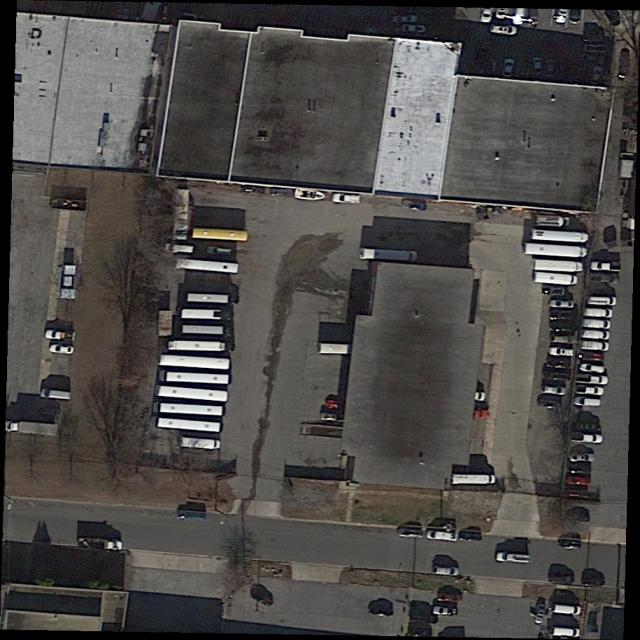large-vehicle: (157, 386, 229, 402), (159, 355, 229, 370), (176, 259, 240, 275), (8, 419, 59, 438), (525, 243, 588, 258), (157, 418, 222, 432), (159, 372, 229, 385), (155, 403, 223, 416), (361, 248, 419, 262), (531, 230, 590, 243), (193, 229, 248, 242), (186, 292, 240, 305), (535, 260, 583, 273), (169, 341, 225, 351), (180, 436, 220, 450), (534, 273, 577, 285), (453, 474, 495, 485), (181, 310, 222, 319), (183, 326, 223, 335)
ship: (290, 188, 327, 202)
small-vehicle: (494, 550, 532, 565), (42, 328, 77, 343), (533, 215, 571, 228), (39, 387, 74, 401), (425, 529, 460, 543), (569, 432, 604, 446), (176, 509, 208, 523), (551, 625, 581, 639), (408, 612, 440, 625), (580, 340, 611, 353), (512, 1, 528, 26), (204, 245, 234, 258), (576, 384, 606, 397), (532, 601, 548, 625), (47, 343, 76, 356), (578, 362, 607, 375), (552, 604, 583, 616), (367, 606, 395, 619), (574, 420, 602, 433), (576, 374, 609, 385), (164, 242, 194, 254), (490, 24, 520, 36), (542, 371, 572, 383), (393, 527, 425, 538), (590, 260, 622, 271), (586, 296, 618, 307), (580, 329, 612, 340), (401, 199, 428, 212), (540, 385, 569, 397), (573, 396, 602, 408), (331, 194, 362, 205), (432, 605, 460, 617), (564, 475, 592, 487), (544, 358, 572, 370), (579, 350, 607, 362), (584, 307, 614, 318), (565, 463, 592, 475), (615, 61, 631, 81), (581, 319, 612, 329), (541, 286, 571, 296), (590, 274, 620, 284), (590, 66, 605, 86), (437, 593, 464, 604), (400, 24, 427, 35), (569, 453, 596, 464), (550, 333, 577, 344), (582, 575, 606, 587), (553, 9, 571, 25), (565, 489, 591, 500), (501, 58, 516, 77), (548, 575, 576, 585), (550, 311, 578, 321), (550, 323, 578, 333), (557, 540, 582, 551), (543, 59, 557, 78), (320, 413, 346, 423), (102, 538, 122, 551), (548, 347, 574, 357), (467, 409, 490, 420), (432, 566, 460, 575), (548, 300, 576, 309), (392, 15, 419, 24), (324, 400, 347, 410), (585, 44, 608, 54), (460, 532, 482, 542), (467, 391, 486, 402), (532, 58, 543, 76), (480, 8, 493, 23), (495, 8, 508, 19)
